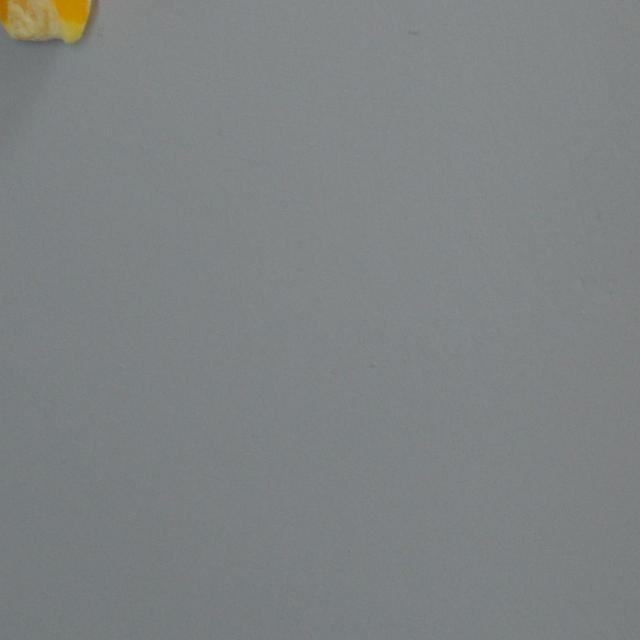pelicula: (0, 0, 94, 44)
